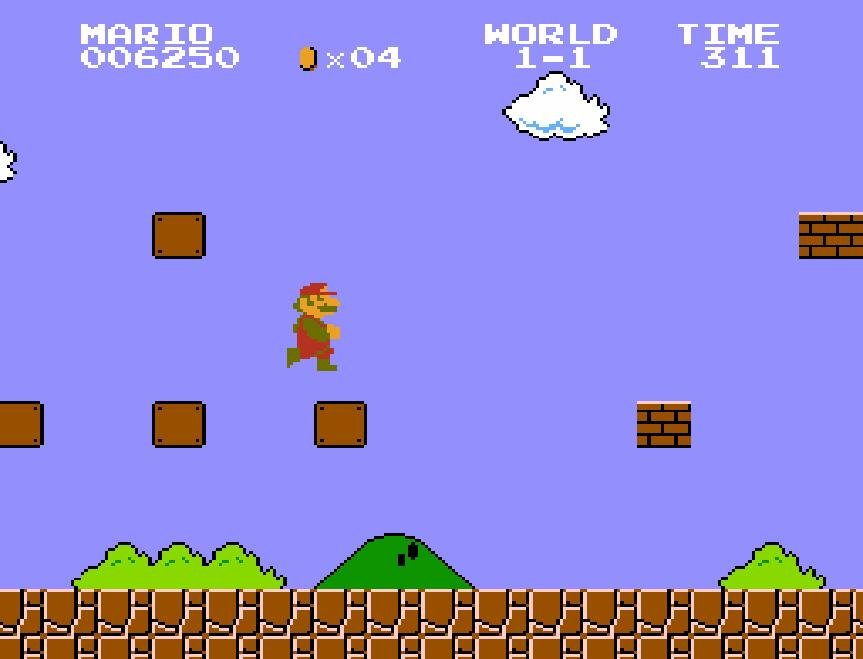big_mario: (284, 274, 342, 372)
